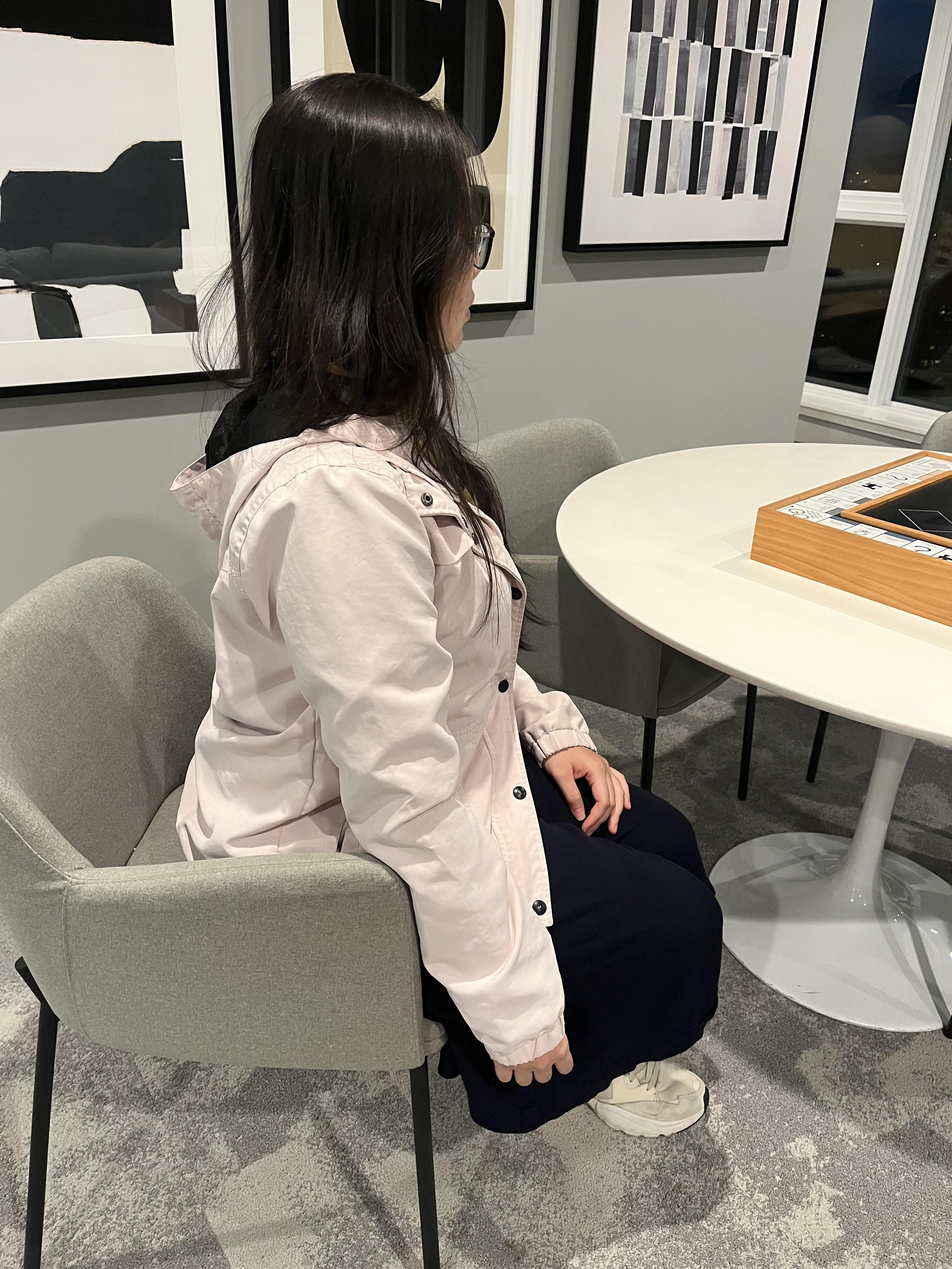GoodPosture: (170, 67, 726, 1138)
